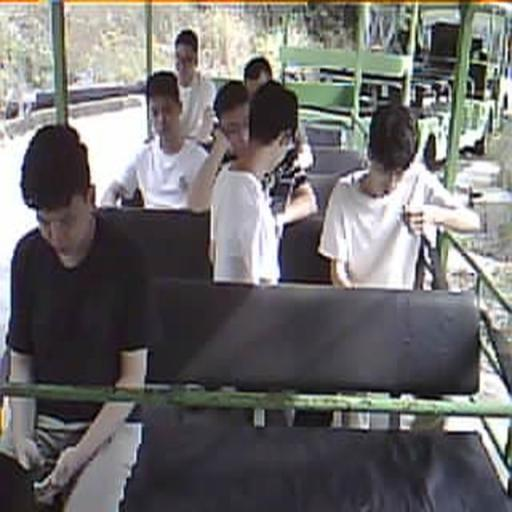persona: (4, 122, 157, 508), (317, 102, 481, 291), (212, 79, 318, 284), (212, 82, 318, 235), (100, 70, 212, 213), (244, 56, 314, 173), (171, 28, 218, 145)
